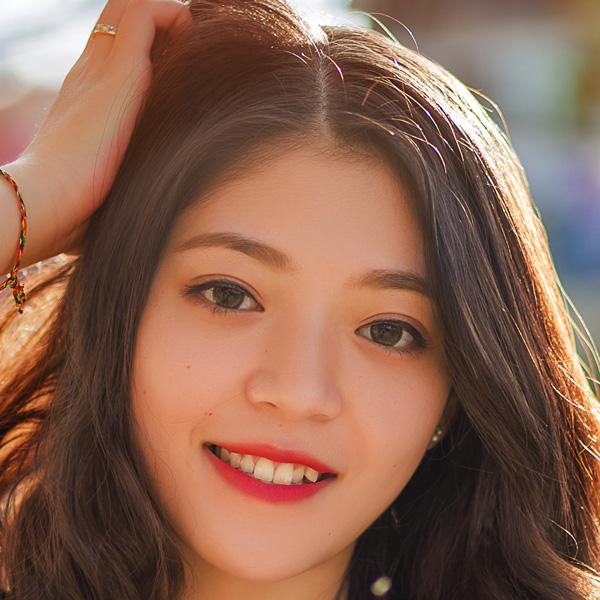Eyes: (176, 266, 275, 326), (346, 302, 426, 364)
